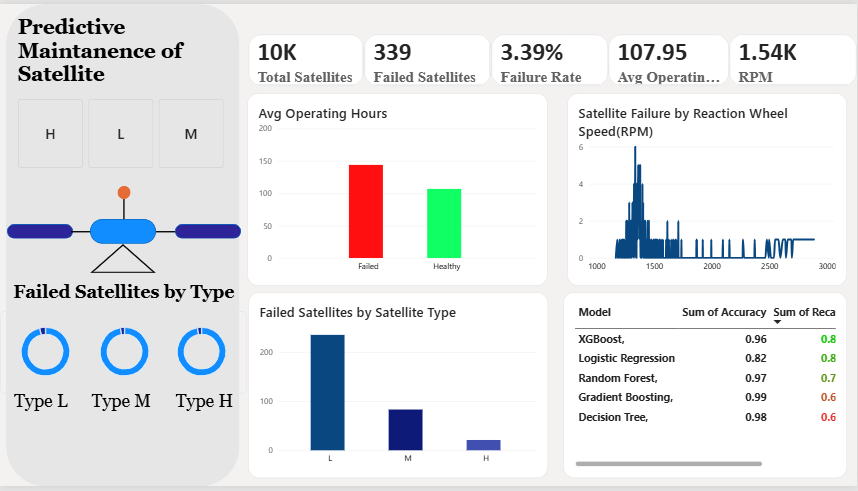

This screenshot's page, from the dashboard's own definition file:
{"tool":"powerbi","page":{"name":"Page 1","canvas":[1280,720],"ordinal":0},"visuals":[{"type":"shape","box":[8.5,0,348.7,720],"z":0},{"type":"shape","box":[134.3,322.2,98.6,36.9],"z":0,"group":"g1"},{"type":"cardVisual","fields":{"Data":["cleaned_satellite_project_data.total satellites"]},"box":[369.9,45.4,172.9,78],"z":1000},{"type":"shape","box":[135.7,267.9,98.6,28.2],"z":1000,"group":"g1"},{"type":"cardVisual","fields":{"Data":["cleaned_satellite_project_data.failed satellites"]},"box":[542.8,45.4,189.9,78],"z":2000},{"type":"shape","box":[10,329.8,98.6,21.7],"z":2000,"group":"g1"},{"type":"cardVisual","fields":{"Data":["cleaned_satellite_project_data.Failure Rate"]},"box":[732.8,45.4,175.7,78],"z":3000},{"type":"shape","box":[261.4,329.8,98.6,21.7],"z":3000,"group":"g1"},{"type":"cardVisual","fields":{"Data":["cleaned_satellite_project_data.Avg Operating Hours"]},"box":[907.1,45.4,181.4,78],"z":4000},{"type":"shape","box":[232.8,321.1,28.6,38],"z":4000,"group":"g1"},{"type":"cardVisual","fields":{"Data":["cleaned_satellite_project_data.RPM"]},"box":[1088.5,45.4,191.3,78],"z":5000},{"type":"shape","box":[105.7,322.2,28.6,38],"z":5000,"group":"g1"},{"type":"shape","box":[0,291.8,369.9,30.4],"z":6000,"group":"g1"},{"type":"donutChart","fields":{"Y":["cleaned_satellite_project_data.Total Satellites"],"Category":["cleaned_satellite_project_data.Failure Status"]},"box":[0,457.7,135.9,123.4],"z":6000},{"type":"shape","box":[134.3,359.1,98.6,43.4],"z":7000,"group":"g1"},{"type":"donutChart","fields":{"Y":["cleaned_satellite_project_data.Total Satellites"],"Category":["cleaned_satellite_project_data.Failure Status"]},"box":[116.2,457.8,138.9,123.3],"z":7000},{"type":"donutChart","fields":{"Y":["cleaned_satellite_project_data.Total Satellites"],"Category":["cleaned_satellite_project_data.Failure Status"]},"box":[232.4,457.8,136.1,123.3],"z":8000},{"type":"shape","box":[10.7,371.8,348.6,116.2],"z":9000},{"type":"shape","box":[18.4,562.7,86.5,60.9],"z":10000},{"type":"shape","box":[130.5,563.1,101.9,60.8],"z":11000},{"type":"shape","box":[261,563.1,87.6,60.8],"z":12000},{"type":"clusteredColumnChart","fields":{"Category":["cleaned_satellite_project_data.Satellite Type"],"Y":["cleaned_satellite_project_data.Failed Satellites"]},"box":[369.6,429.5,448.1,278.3],"z":13000},{"type":"clusteredColumnChart","title":"Avg Operating Hours","fields":{"Category":["Failure Category.Category"],"Y":["Failure Category.Selected Avg Hours"]},"box":[368.2,132.7,449.5,288.2],"z":15000},{"type":"advancedSlicerVisual","fields":{"Values":["cleaned_satellite_project_data.Satellite Type"]},"box":[26.9,141.7,307.6,103.5],"z":16000},{"type":"group","id":"g1","title":"Group 1","box":[0,267.9,369.9,133.2],"z":17000},{"type":"tableEx","fields":{"Values":["model_comparison.Model","Sum(model_comparison.Accuracy)","Sum(model_comparison.Recall)","Sum(model_comparison.Precision)"]},"box":[840,430,424,278],"z":18000},{"type":"lineChart","title":"Satellite Failure by Reaction Wheel Speed(RPM)","fields":{"Category":["cleaned_satellite_project_data.Reaction Wheel Speed(RPM)"],"Y":["Sum(cleaned_satellite_project_data.Satellite Failure)"]},"box":[846.2,132.7,418.1,288.2],"z":18001}]}

Visuals, with their boxes in screenshot pixels (x1, y1, x2, y2), scaled from the page's 1280x720 canvas onto the 858x491 screenshot:
shape: (6, 0, 239, 490)
shape: (90, 220, 156, 245)
cardVisual - cleaned_satellite_project_data.total satellites: (248, 31, 364, 84)
shape: (91, 183, 157, 202)
cardVisual - cleaned_satellite_project_data.failed satellites: (364, 31, 491, 84)
shape: (7, 225, 73, 240)
cardVisual - cleaned_satellite_project_data.Failure Rate: (491, 31, 609, 84)
shape: (175, 225, 241, 240)
cardVisual - cleaned_satellite_project_data.Avg Operating Hours: (608, 31, 730, 84)
shape: (156, 219, 175, 245)
cardVisual - cleaned_satellite_project_data.RPM: (730, 31, 857, 84)
shape: (71, 220, 90, 246)
shape: (0, 199, 248, 220)
donutChart - cleaned_satellite_project_data.Total Satellites x cleaned_satellite_project_data.Failure Status: (0, 312, 91, 396)
shape: (90, 245, 156, 274)
donutChart - cleaned_satellite_project_data.Total Satellites x cleaned_satellite_project_data.Failure Status: (78, 312, 171, 396)
donutChart - cleaned_satellite_project_data.Total Satellites x cleaned_satellite_project_data.Failure Status: (156, 312, 247, 396)
shape: (7, 254, 241, 333)
shape: (12, 384, 70, 425)
shape: (87, 384, 156, 425)
shape: (175, 384, 234, 425)
clusteredColumnChart - cleaned_satellite_project_data.Satellite Type x cleaned_satellite_project_data.Failed Satellites: (248, 293, 548, 483)
"Avg Operating Hours" clusteredColumnChart: (247, 90, 548, 287)
advancedSlicerVisual - cleaned_satellite_project_data.Satellite Type: (18, 97, 224, 167)
"Group 1" group: (0, 183, 248, 274)
tableEx - model_comparison.Model x Sum(model_comparison.Accuracy): (563, 293, 847, 483)
"Satellite Failure by Reaction Wheel Speed(RPM)" lineChart: (567, 90, 847, 287)
